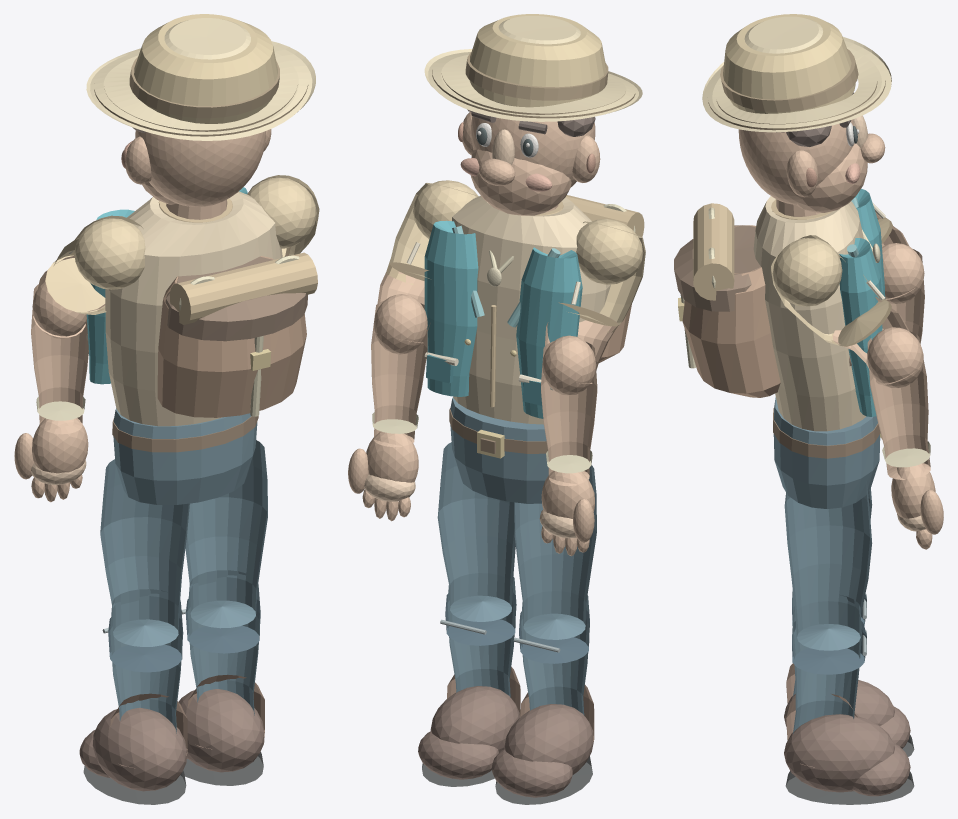
The model's file is A06_craft_weighted_pose_diagnostic.glb.
3 views of the same model, side by side, from view 1: azimuth 30°, elevation 25°; view 2: azimuth 150°, elevation 25°; view 3: azimuth 270°, elevation 25° (orthographic). The views are drawn at different scales.
Visible parts, largest first — view 1: world; view 2: world; view 3: world.
Boxes of the visible parts, x1,y1,x2,y2 form: world: (14, 14, 319, 804); world: (348, 14, 645, 804); world: (674, 14, 943, 804).
Size of the model in its own units: 0.6338 by 1.87 by 0.6162.
